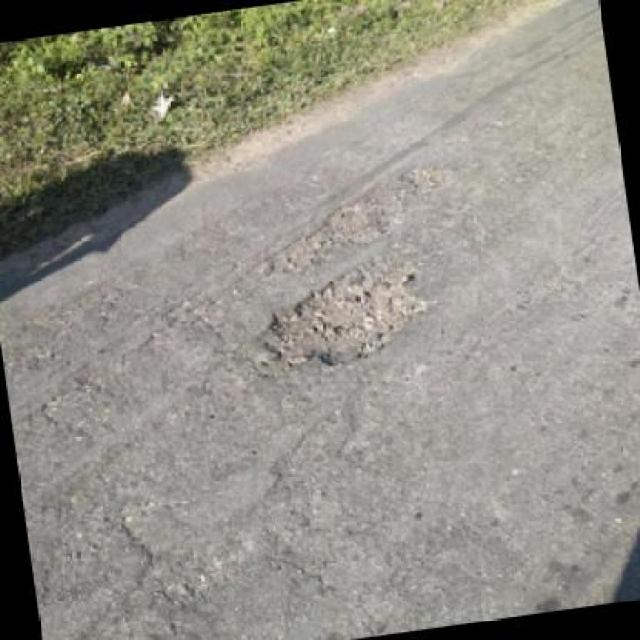pothole1: (236, 252, 441, 380), (252, 192, 402, 278), (397, 158, 458, 199)
